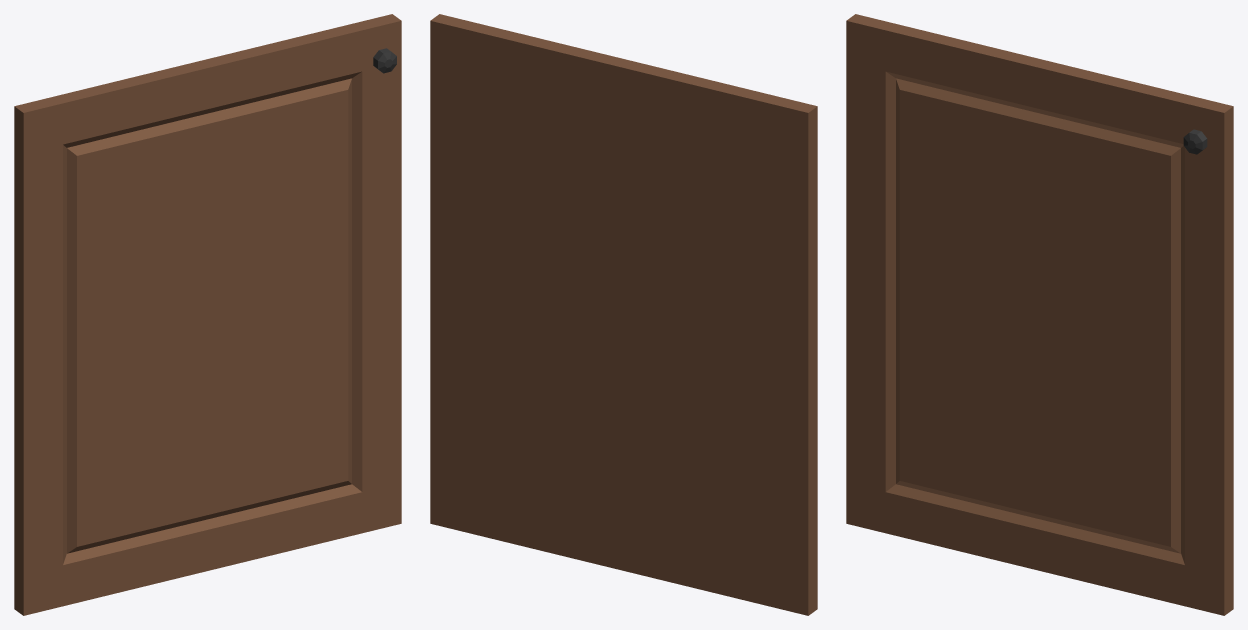
The model's file is Door3_C2_02.fbx.
3 views of the same model, side by side, from view 1: azimuth 30°, elevation 25°; view 2: azimuth 150°, elevation 25°; view 3: azimuth 330°, elevation 25° (orthographic).
Parts seen in each view (by area): view 1: Door3_C2_02; view 2: Door3_C2_02; view 3: Door3_C2_02.
Boxes of the visible parts, x1,y1,x2,y2 form: Door3_C2_02: [14, 14, 401, 615]; Door3_C2_02: [430, 14, 817, 615]; Door3_C2_02: [846, 14, 1233, 615].
Size of the model in its own units: 59 by 75 by 5.19.
